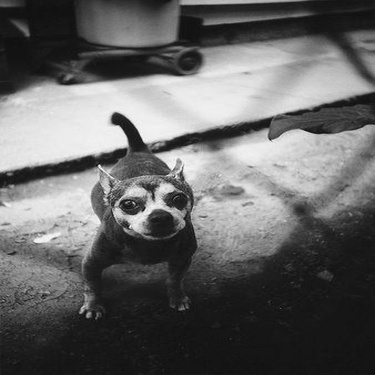dog: (63, 98, 199, 322)
